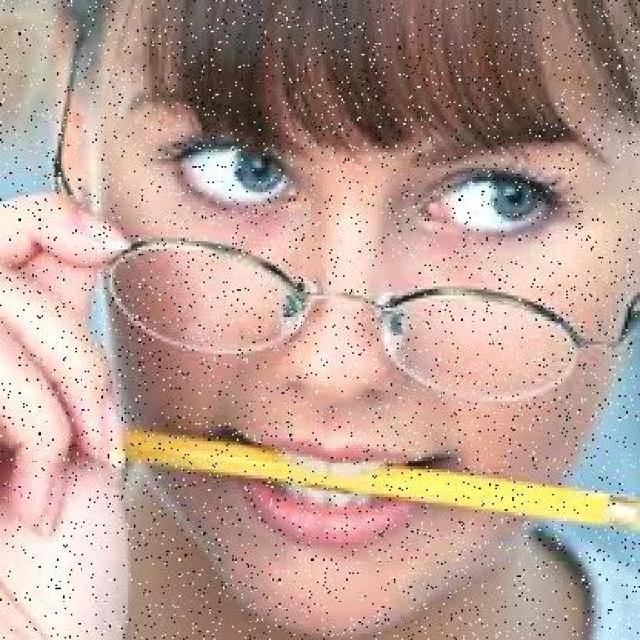glasses: (89, 219, 626, 412)
